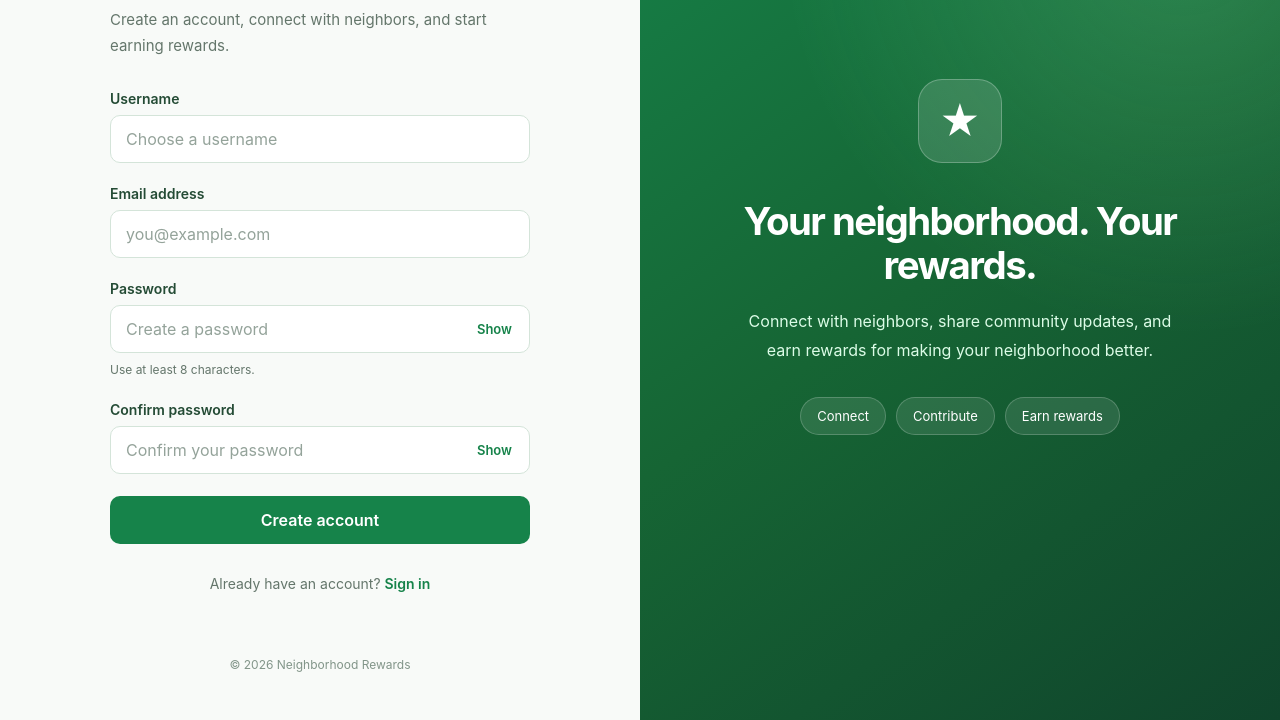
Test: Register Page › shows errors for empty fields
(page scrolled)
Click the button "Create account" at (320,520), box [110,496,530,544]
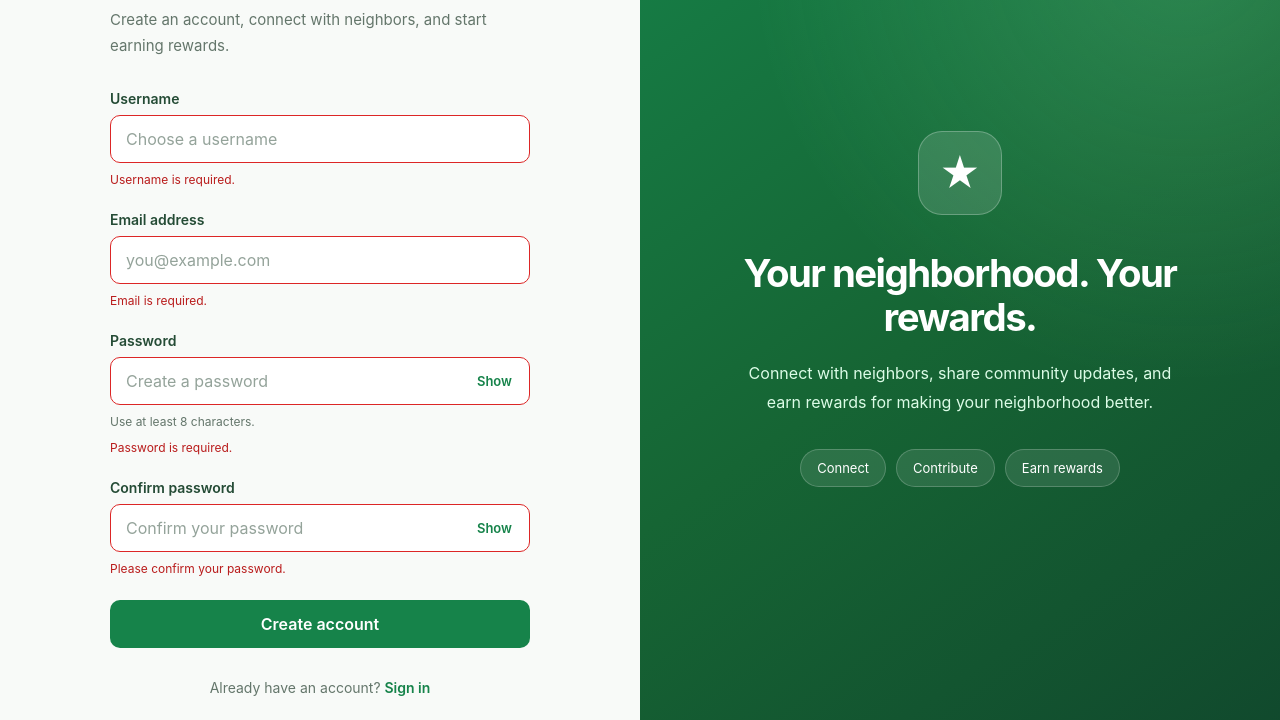
Now the text "Username is required." is shown, box [110,172,235,187]
Now the text "Email is required." is shown, box [110,293,207,308]
Now the text "Password is required." is shown, box [110,440,232,455]
